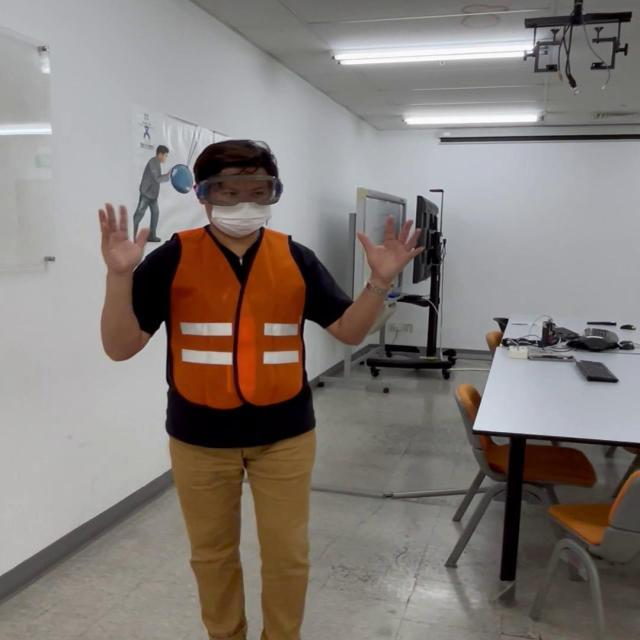bare_hand: (353, 212, 427, 284), (95, 198, 152, 272)
